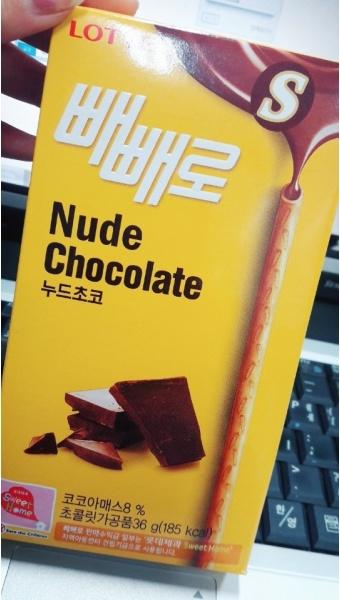snack: (0, 9, 340, 575)
